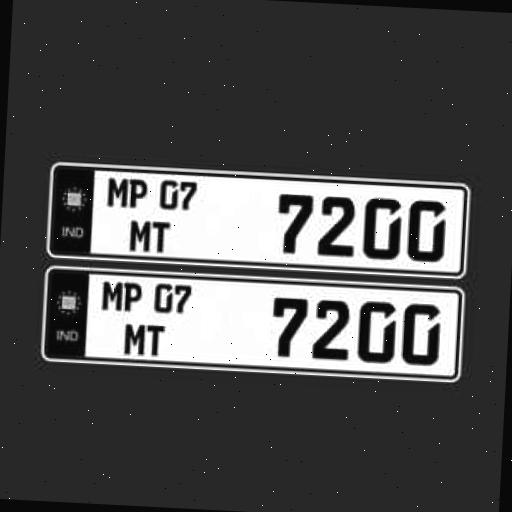number plate: (47, 156, 469, 282), (42, 268, 465, 382)
